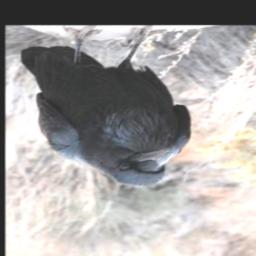Crow: (18, 26, 195, 188)
